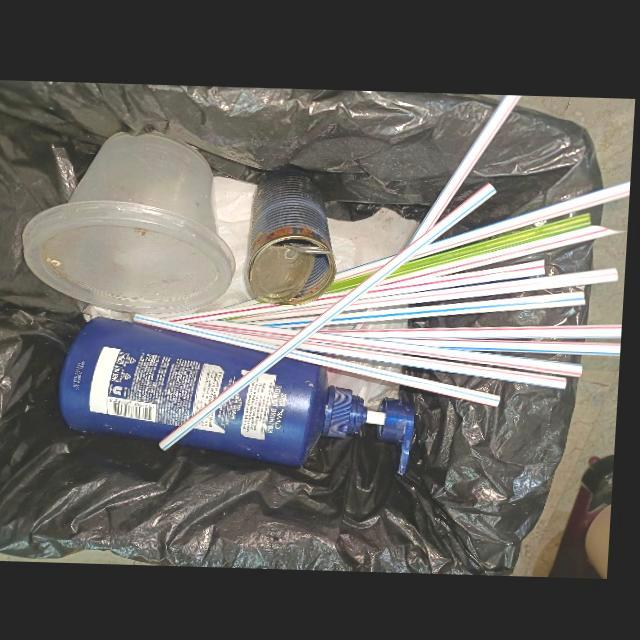aluminum: (251, 168, 339, 303)
plastic_bottle: (182, 354, 421, 471), (63, 316, 276, 440)
plastic_container: (24, 129, 239, 317)
